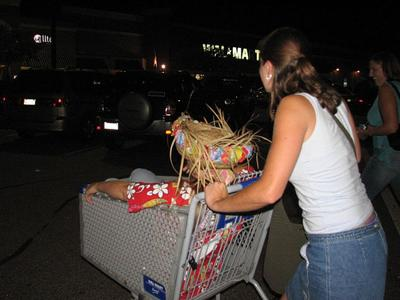person: (200, 30, 392, 299)
